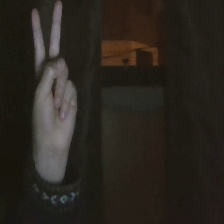V: (21, 1, 87, 154)
